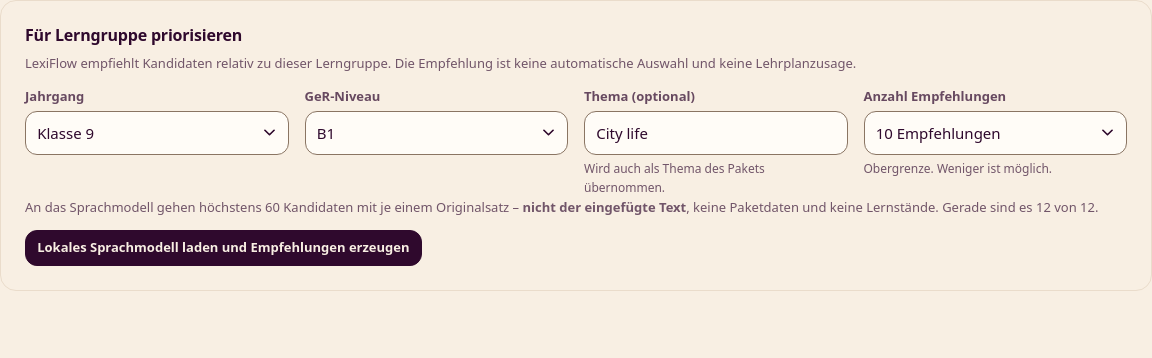
it: Unbrauchbare Antworten › meldet eine völlig unbrauchbare Antwort und erlaubt einen neuen Versuch
The image size is (1152, 358).
Click the button "Lokales Sprachmodell laden und Empfehlungen erzeugen" at [223, 248], box [25, 230, 422, 266]
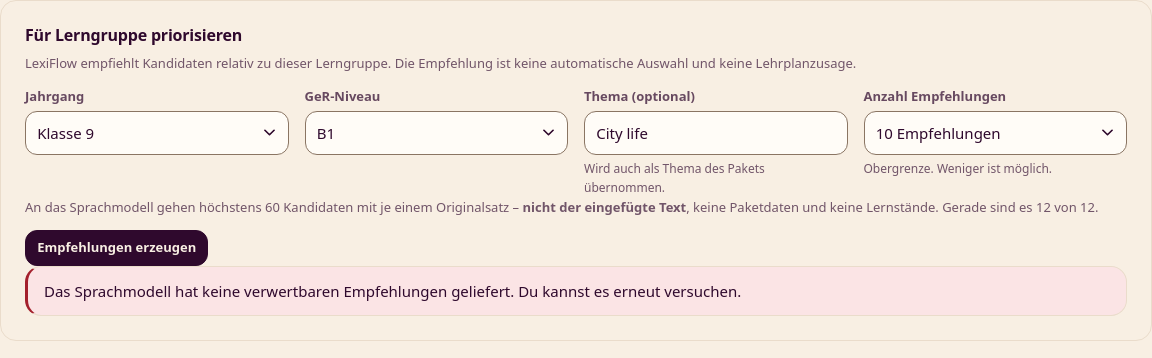
Check: the message shows "keine verwertbaren Empfehlungen", box [44, 281, 741, 301]
